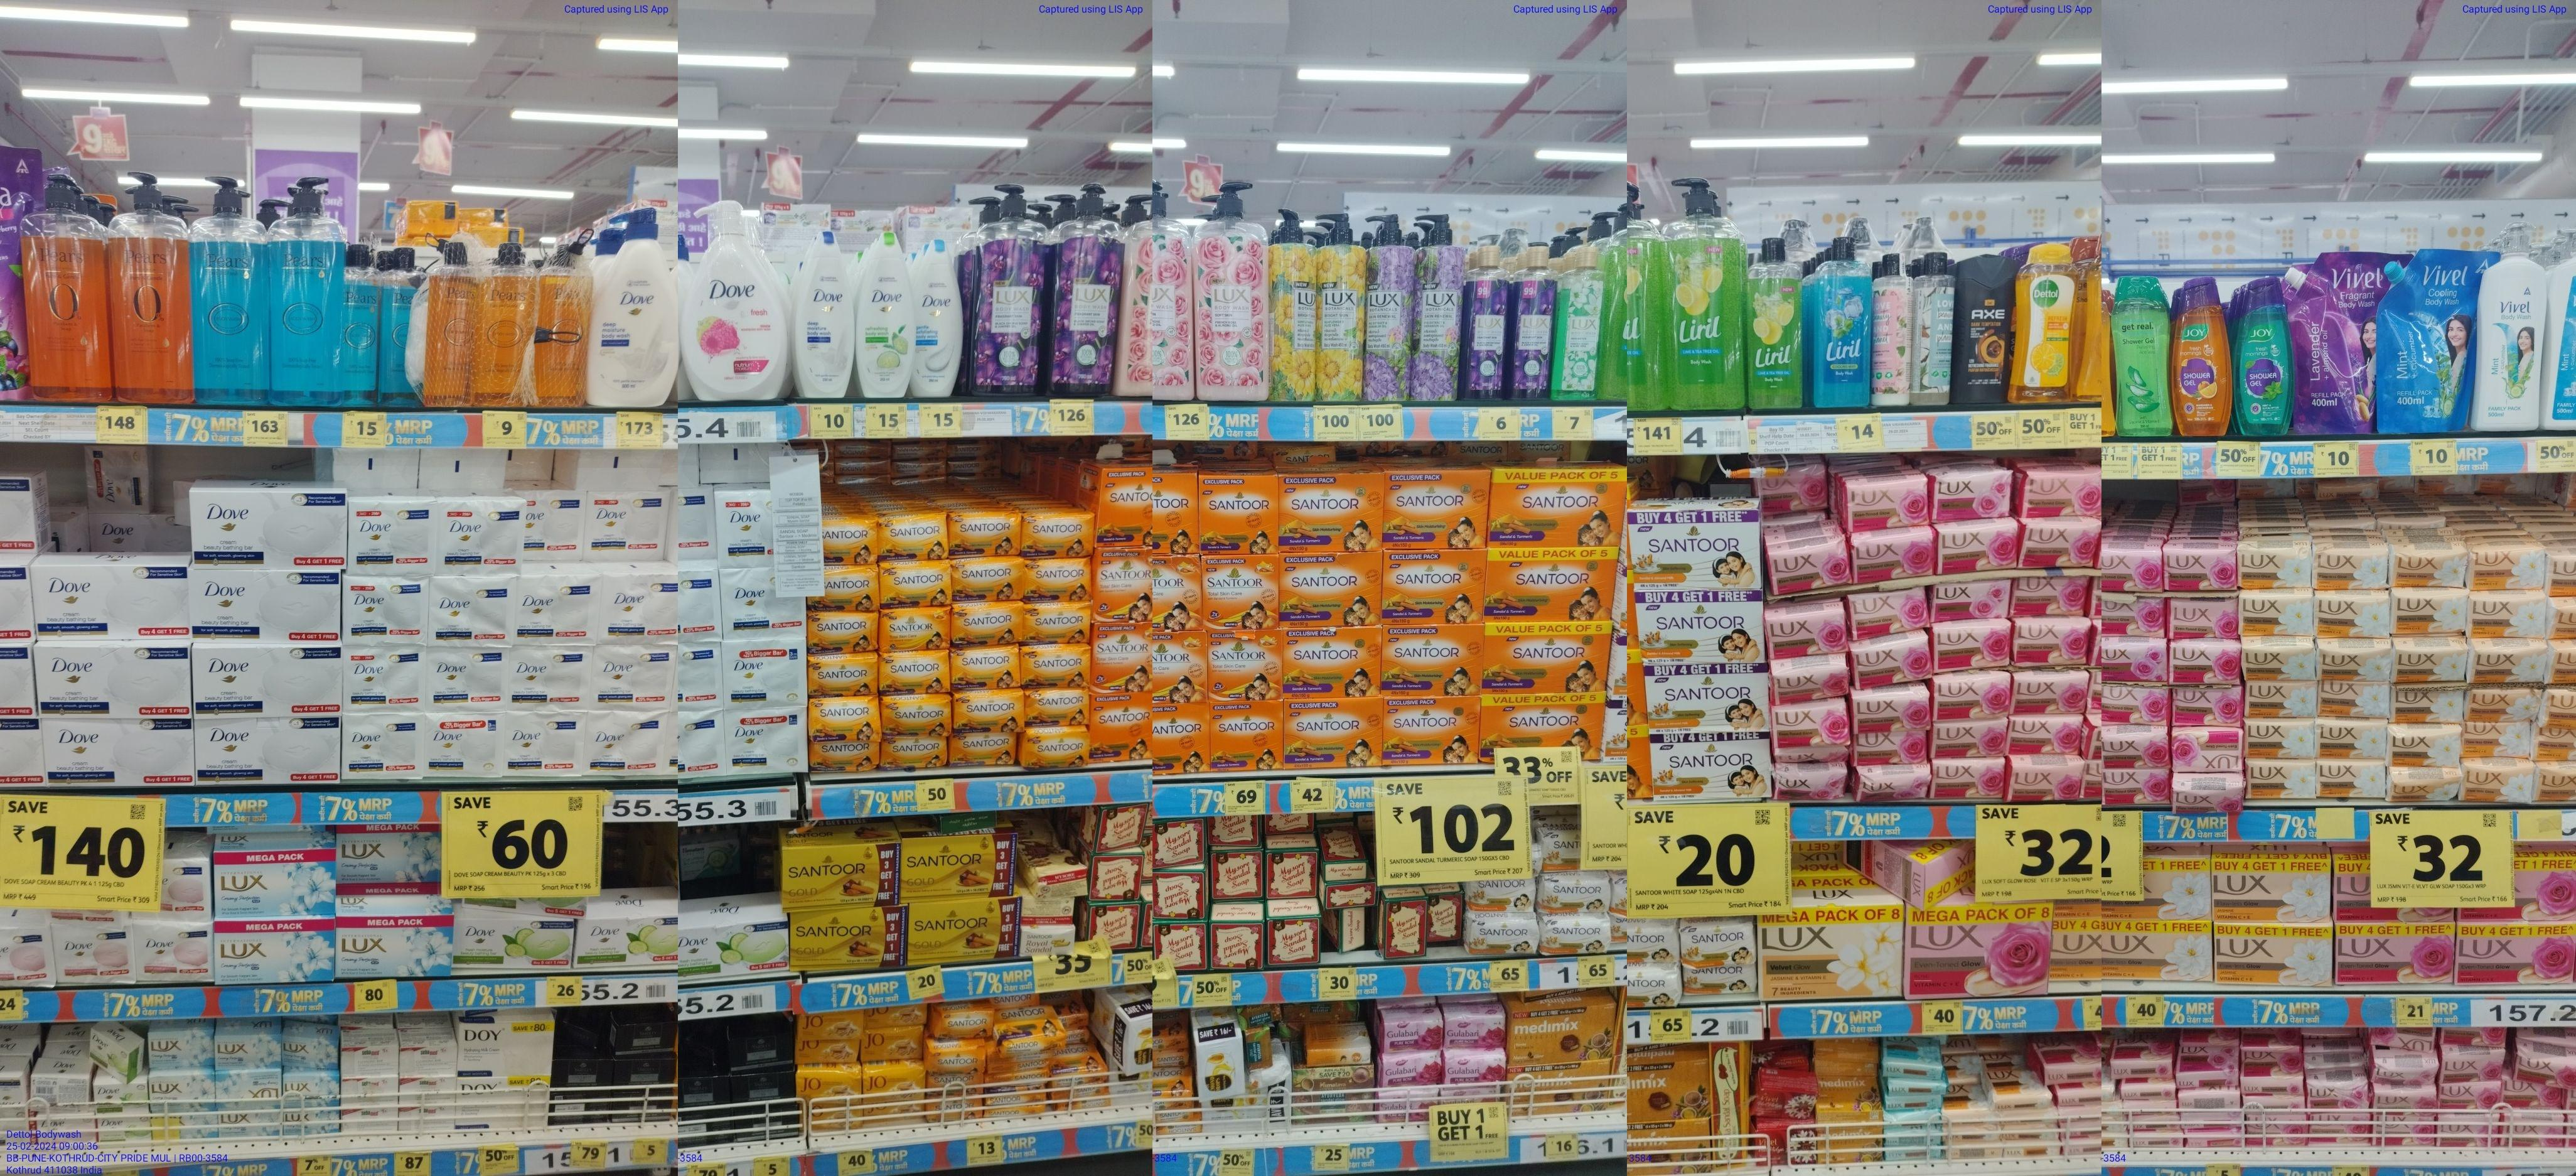Dettol_Bodywash_Refresh: (2019, 245, 2077, 399)
Dove_Deep_Moisture_Body_Wash_250ML: (792, 233, 856, 399)
Dove_Gentle_Exfoliating_Body_Wash_250ML: (913, 240, 963, 397)
Dove_Refreshing_Body_Wash_250ML: (859, 230, 912, 399)
Joy_Shower_Gel_Mandarin_and_Lemongrass_250ML: (2172, 276, 2228, 439)
Joy_Shower_Gel_Mint_and_Eucalyptus_250ML: (2238, 276, 2292, 435)
Lux_Black_Orchid_Scent_and_Juniper_Oil_Body_Wash_245ML: (1515, 245, 1559, 397), (1467, 245, 1506, 397)
Lux_Body_Wash_Skin_Detox_Freesia_Scent_and_Alove_Vera_245ML: (1562, 246, 1603, 397)
Pears_Pure_Glycerin_and_Mint_Extracts_Body_Wash_250ML: (386, 248, 422, 409), (347, 245, 378, 407)
